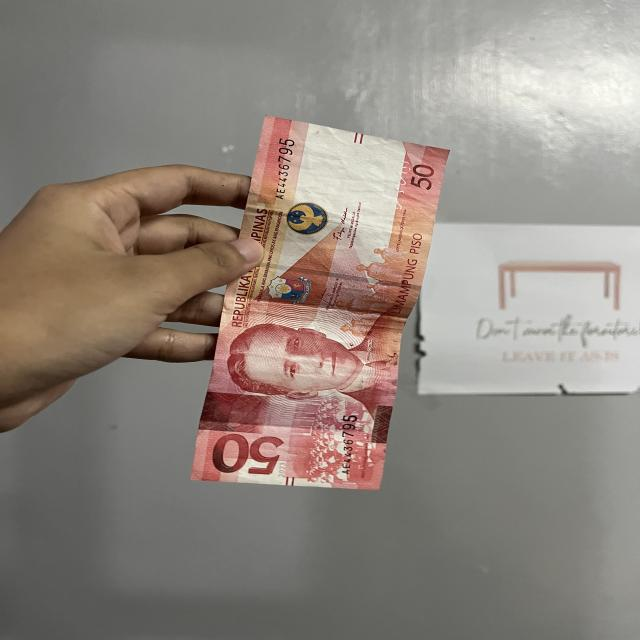concealed_value: (196, 392, 269, 435)
see_through_mark: (377, 156, 418, 220)
value: (206, 427, 288, 480)
